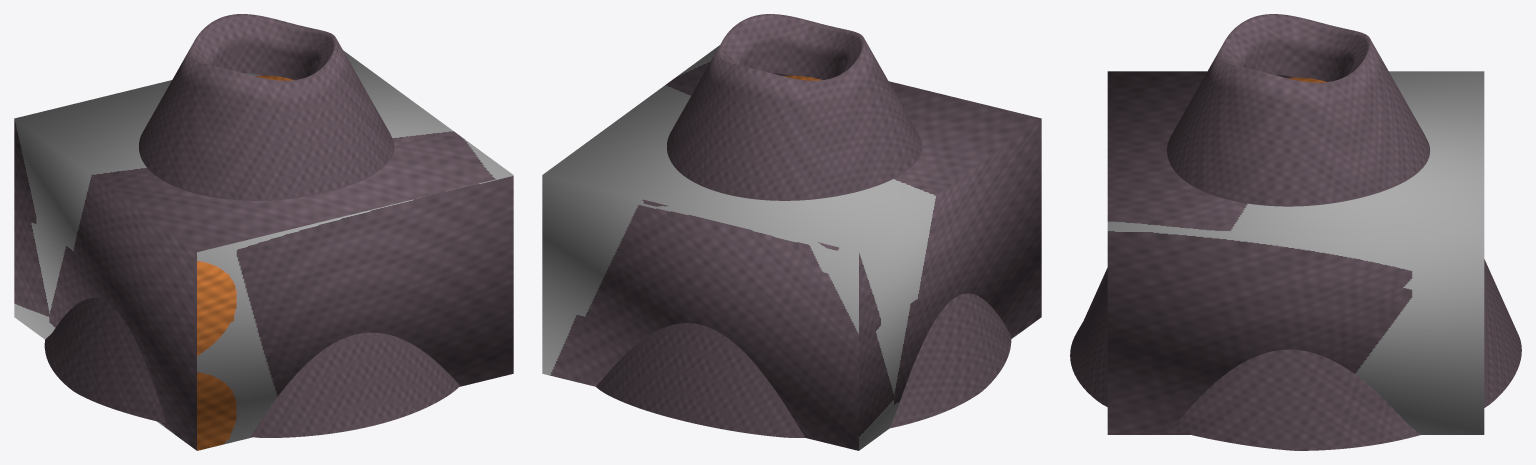
File: landmark_volcano.glb
3 views of the same model, side by side, from view 1: azimuth 30°, elevation 25°; view 2: azimuth 150°, elevation 25°; view 3: azimuth 270°, elevation 25° (orthographic). The views are drawn at different scales.
Parts seen in each view (by area): view 1: col, lod0; view 2: col, lod0; view 3: col, lod0.
Part boxes in pixels (x1,y1,x2,y2): col: (14, 50, 513, 450); lod0: (44, 14, 459, 437); col: (542, 45, 1041, 450); lod0: (596, 14, 1011, 437); col: (1107, 71, 1484, 434); lod0: (1070, 14, 1521, 450).
Size of what is drawn, in the model's own units: 24 by 18.3 by 24.
Materials: 2 (2 with a texture image).
